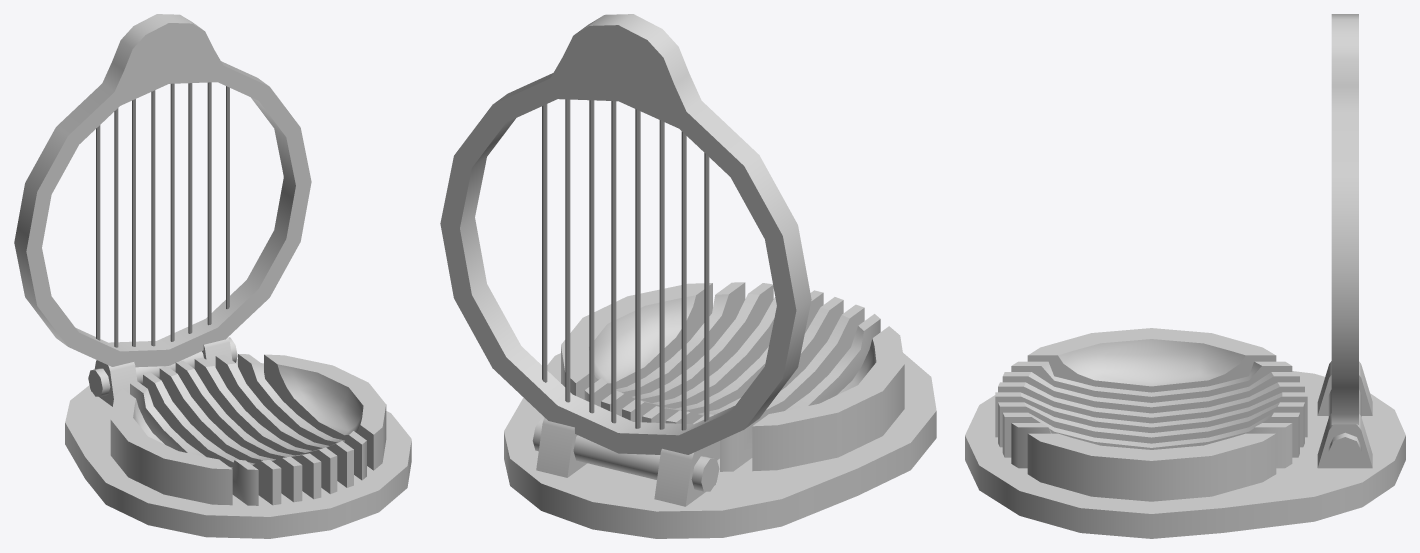
File: EggSlicer_01.fbx
The picture shows the model from 3 angles, left to right: view 1: azimuth 30°, elevation 25°; view 2: azimuth 150°, elevation 25°; view 3: azimuth 270°, elevation 25°; orthographic projection. The views are drawn at different scales.
Visible parts, largest first — view 1: EggSlicer_01, EggSlicer_01_Top; view 2: EggSlicer_01, EggSlicer_01_Top; view 3: EggSlicer_01, EggSlicer_01_Top.
Boxes of the visible parts, x1,y1,x2,y2 form: EggSlicer_01: (65, 337, 411, 538); EggSlicer_01_Top: (14, 14, 311, 367); EggSlicer_01: (504, 282, 936, 538); EggSlicer_01_Top: (440, 14, 811, 454); EggSlicer_01: (965, 328, 1405, 538); EggSlicer_01_Top: (1331, 14, 1358, 424).
Bounding box in the file's own units: 0.0834 × 0.1086 × 0.0986.
